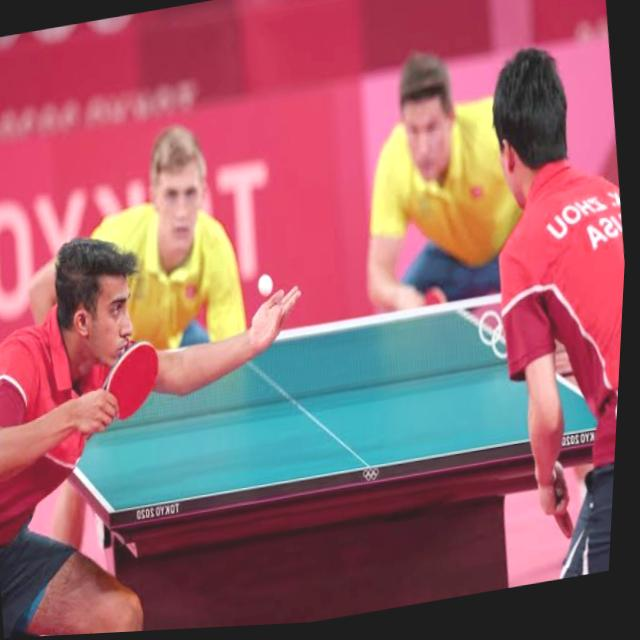TT Net: (23, 267, 621, 449)
TT Racket: (96, 330, 173, 435), (548, 484, 578, 547)
TT Table: (10, 298, 617, 513)
